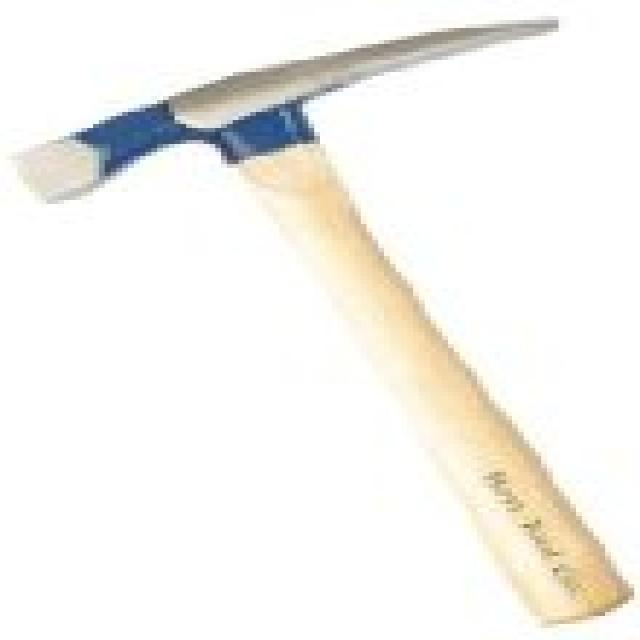hammer: (13, 9, 632, 624)
